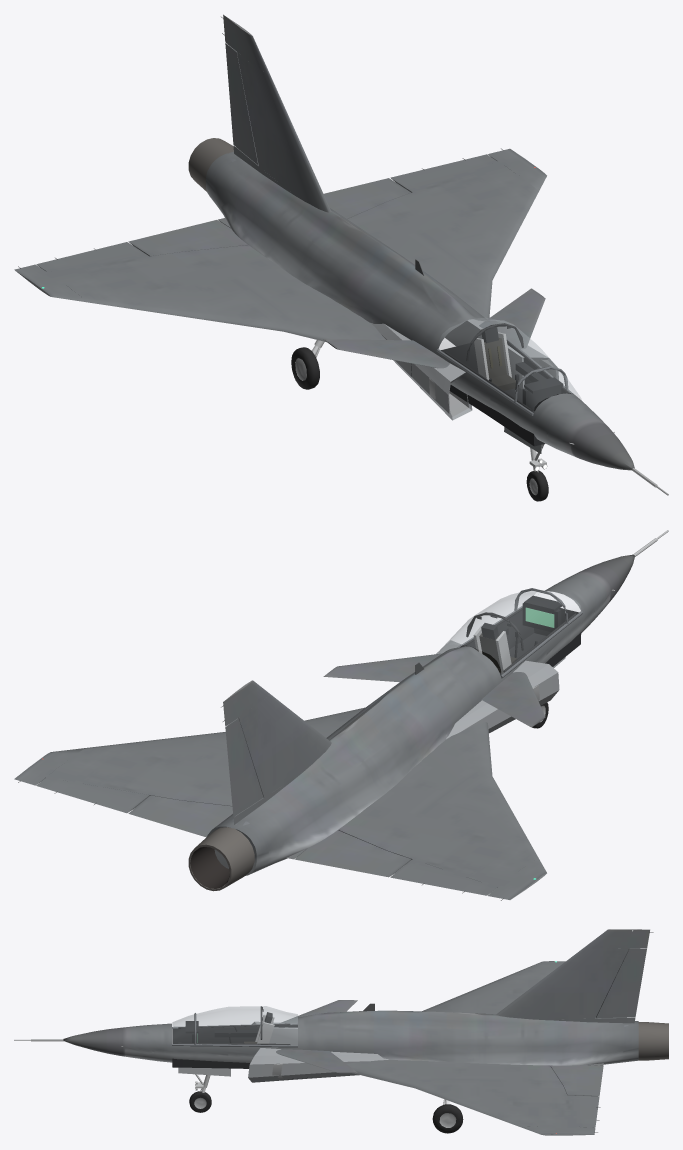
File: delta-fighter_card.glb
3 views of the same model, one above another, from view 1: azimuth 30°, elevation 25°; view 2: azimuth 150°, elevation 25°; view 3: azimuth 270°, elevation 25° (orthographic). The views are drawn at different scales.
Parts seen in each view (by area): view 1: wings_tail, fuselage, canopy_glass, cockpit, intakes, elevon_inner_R_mesh, canard_R_mesh, elevon_inner_L_mesh, rudder_mesh, canard_L_mesh, elevon_outer_L_mesh, canopy_frame (+3 smaller); view 2: wings_tail, fuselage, canopy_glass, cockpit, nozzle, elevon_inner_R_mesh, elevon_inner_L_mesh, intakes, rudder_mesh, canard_R_mesh, elevon_outer_L_mesh, canard_L_mesh (+2 smaller); view 3: fuselage, wings_tail, canopy_glass, intakes, cockpit, rudder_mesh, elevon_inner_L_mesh, nozzle, canard_L_mesh, canopy_frame, elevon_outer_L_mesh, gear_main_L_mesh (+3 smaller).
Boxes of the visible parts, x1,y1,x2,y2 form: wings_tail: (14,14,546,342); fuselage: (206,151,634,470); canopy_glass: (438,318,581,412); cockpit: (441,327,566,446); intakes: (371,319,558,420); elevon_inner_R_mesh: (128,220,247,256); canard_R_mesh: (323,339,449,368); elevon_inner_L_mesh: (323,178,410,218); rudder_mesh: (225,43,258,165); canard_L_mesh: (479,288,545,349); elevon_outer_L_mesh: (390,154,497,192); canopy_frame: (436,323,581,415); wings_tail: (14,680,546,899); fuselage: (207,554,634,875); canopy_glass: (438,590,580,674); cockpit: (466,595,581,675); nozzle: (188,819,254,891); elevon_inner_R_mesh: (294,830,411,877); elevon_inner_L_mesh: (128,795,232,837); intakes: (436,640,559,739); rudder_mesh: (225,718,263,816); canard_R_mesh: (481,672,545,727); elevon_outer_L_mesh: (36,777,149,813); canard_L_mesh: (323,653,441,682); fuselage: (63,1010,638,1065); wings_tail: (347,929,649,1135); canopy_glass: (172,1006,297,1044); intakes: (248,1021,388,1082); cockpit: (172,1012,297,1068); rudder_mesh: (596,948,646,1018); elevon_inner_L_mesh: (550,1065,603,1096); nozzle: (624,1022,668,1060); canard_L_mesh: (276,1049,357,1073); canopy_frame: (172,1006,297,1047); elevon_outer_L_mesh: (567,1095,599,1127); gear_main_L_mesh: (432,1099,463,1133).
Bounding box in the file's own units: 10.1 × 4.97 × 16.15.
Materials: 25 (1 with a texture image).
